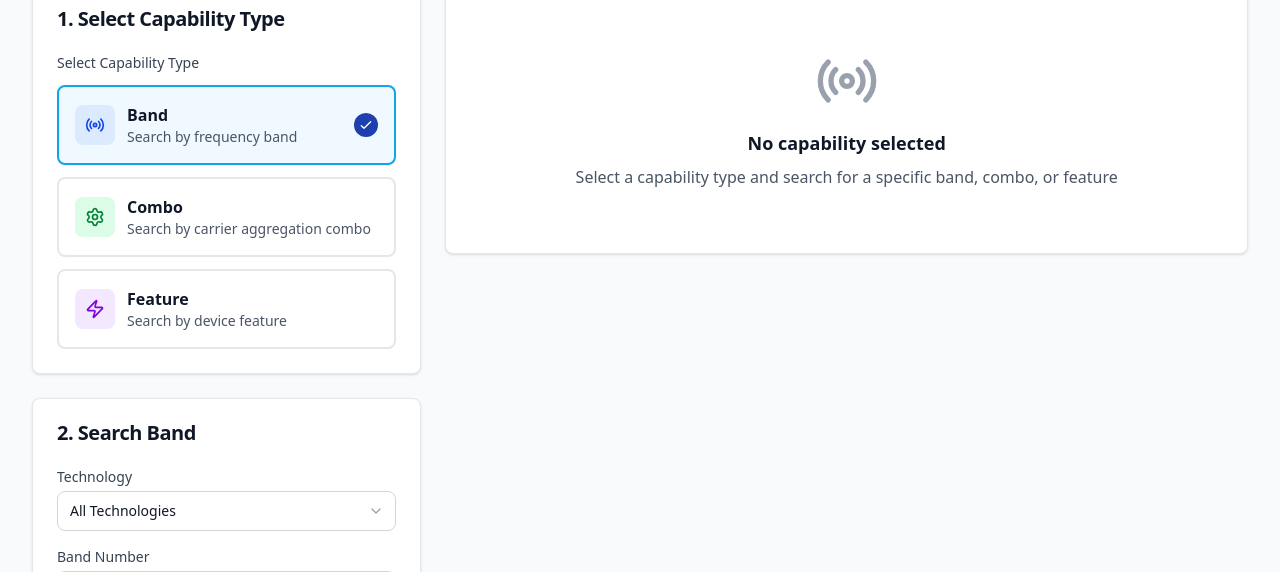
CapabilityQueryPage › changes search component when capability type changes to Combo
The image size is (1280, 572).
Click the text "Combo" at (155, 207), box x1=127 y1=196 x2=183 y2=218
(page scrolled)
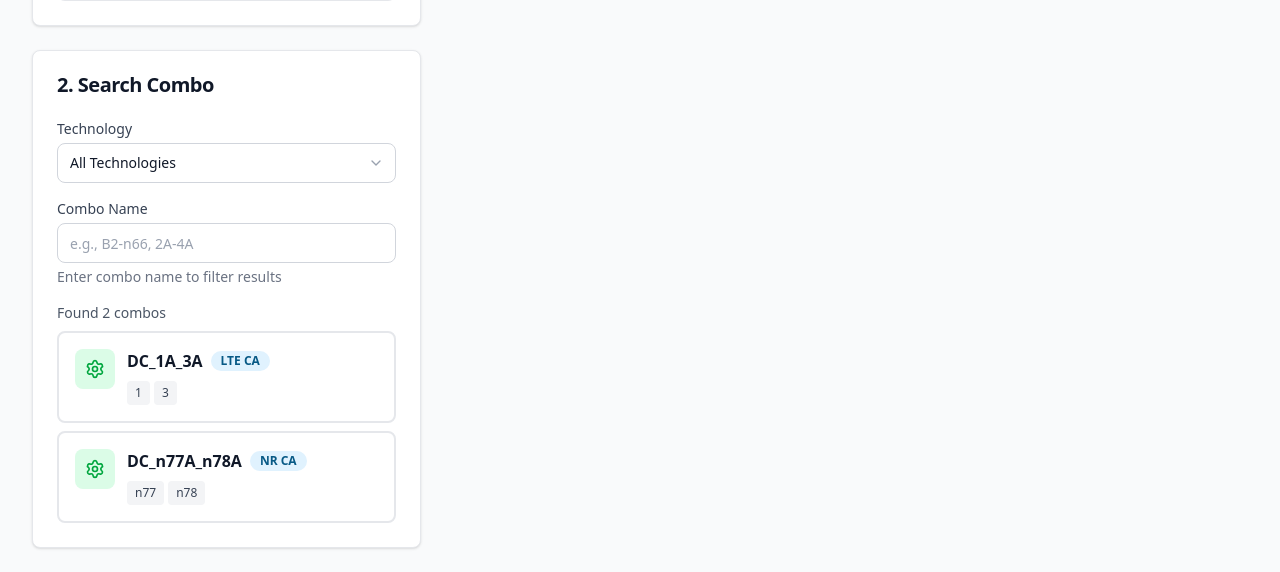
Result: the heading "2. Search Combo" is shown at x1=57 y1=71 x2=214 y2=98
Result: the field labelled "Combo Name" is shown at x1=57 y1=223 x2=396 y2=263
Result: the text "Found 2 combos" is shown at x1=57 y1=303 x2=166 y2=322
